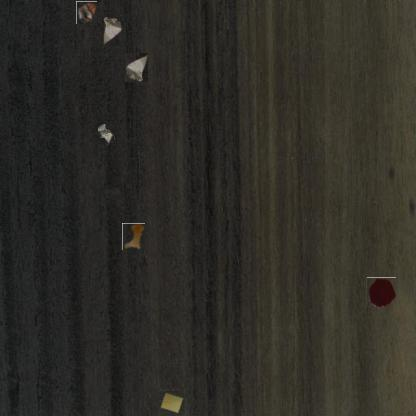dirty: (124, 52, 148, 82), (101, 16, 123, 46), (160, 390, 184, 415), (75, 2, 98, 24), (98, 124, 114, 144)
liquid: (366, 277, 396, 308), (122, 223, 145, 250)
